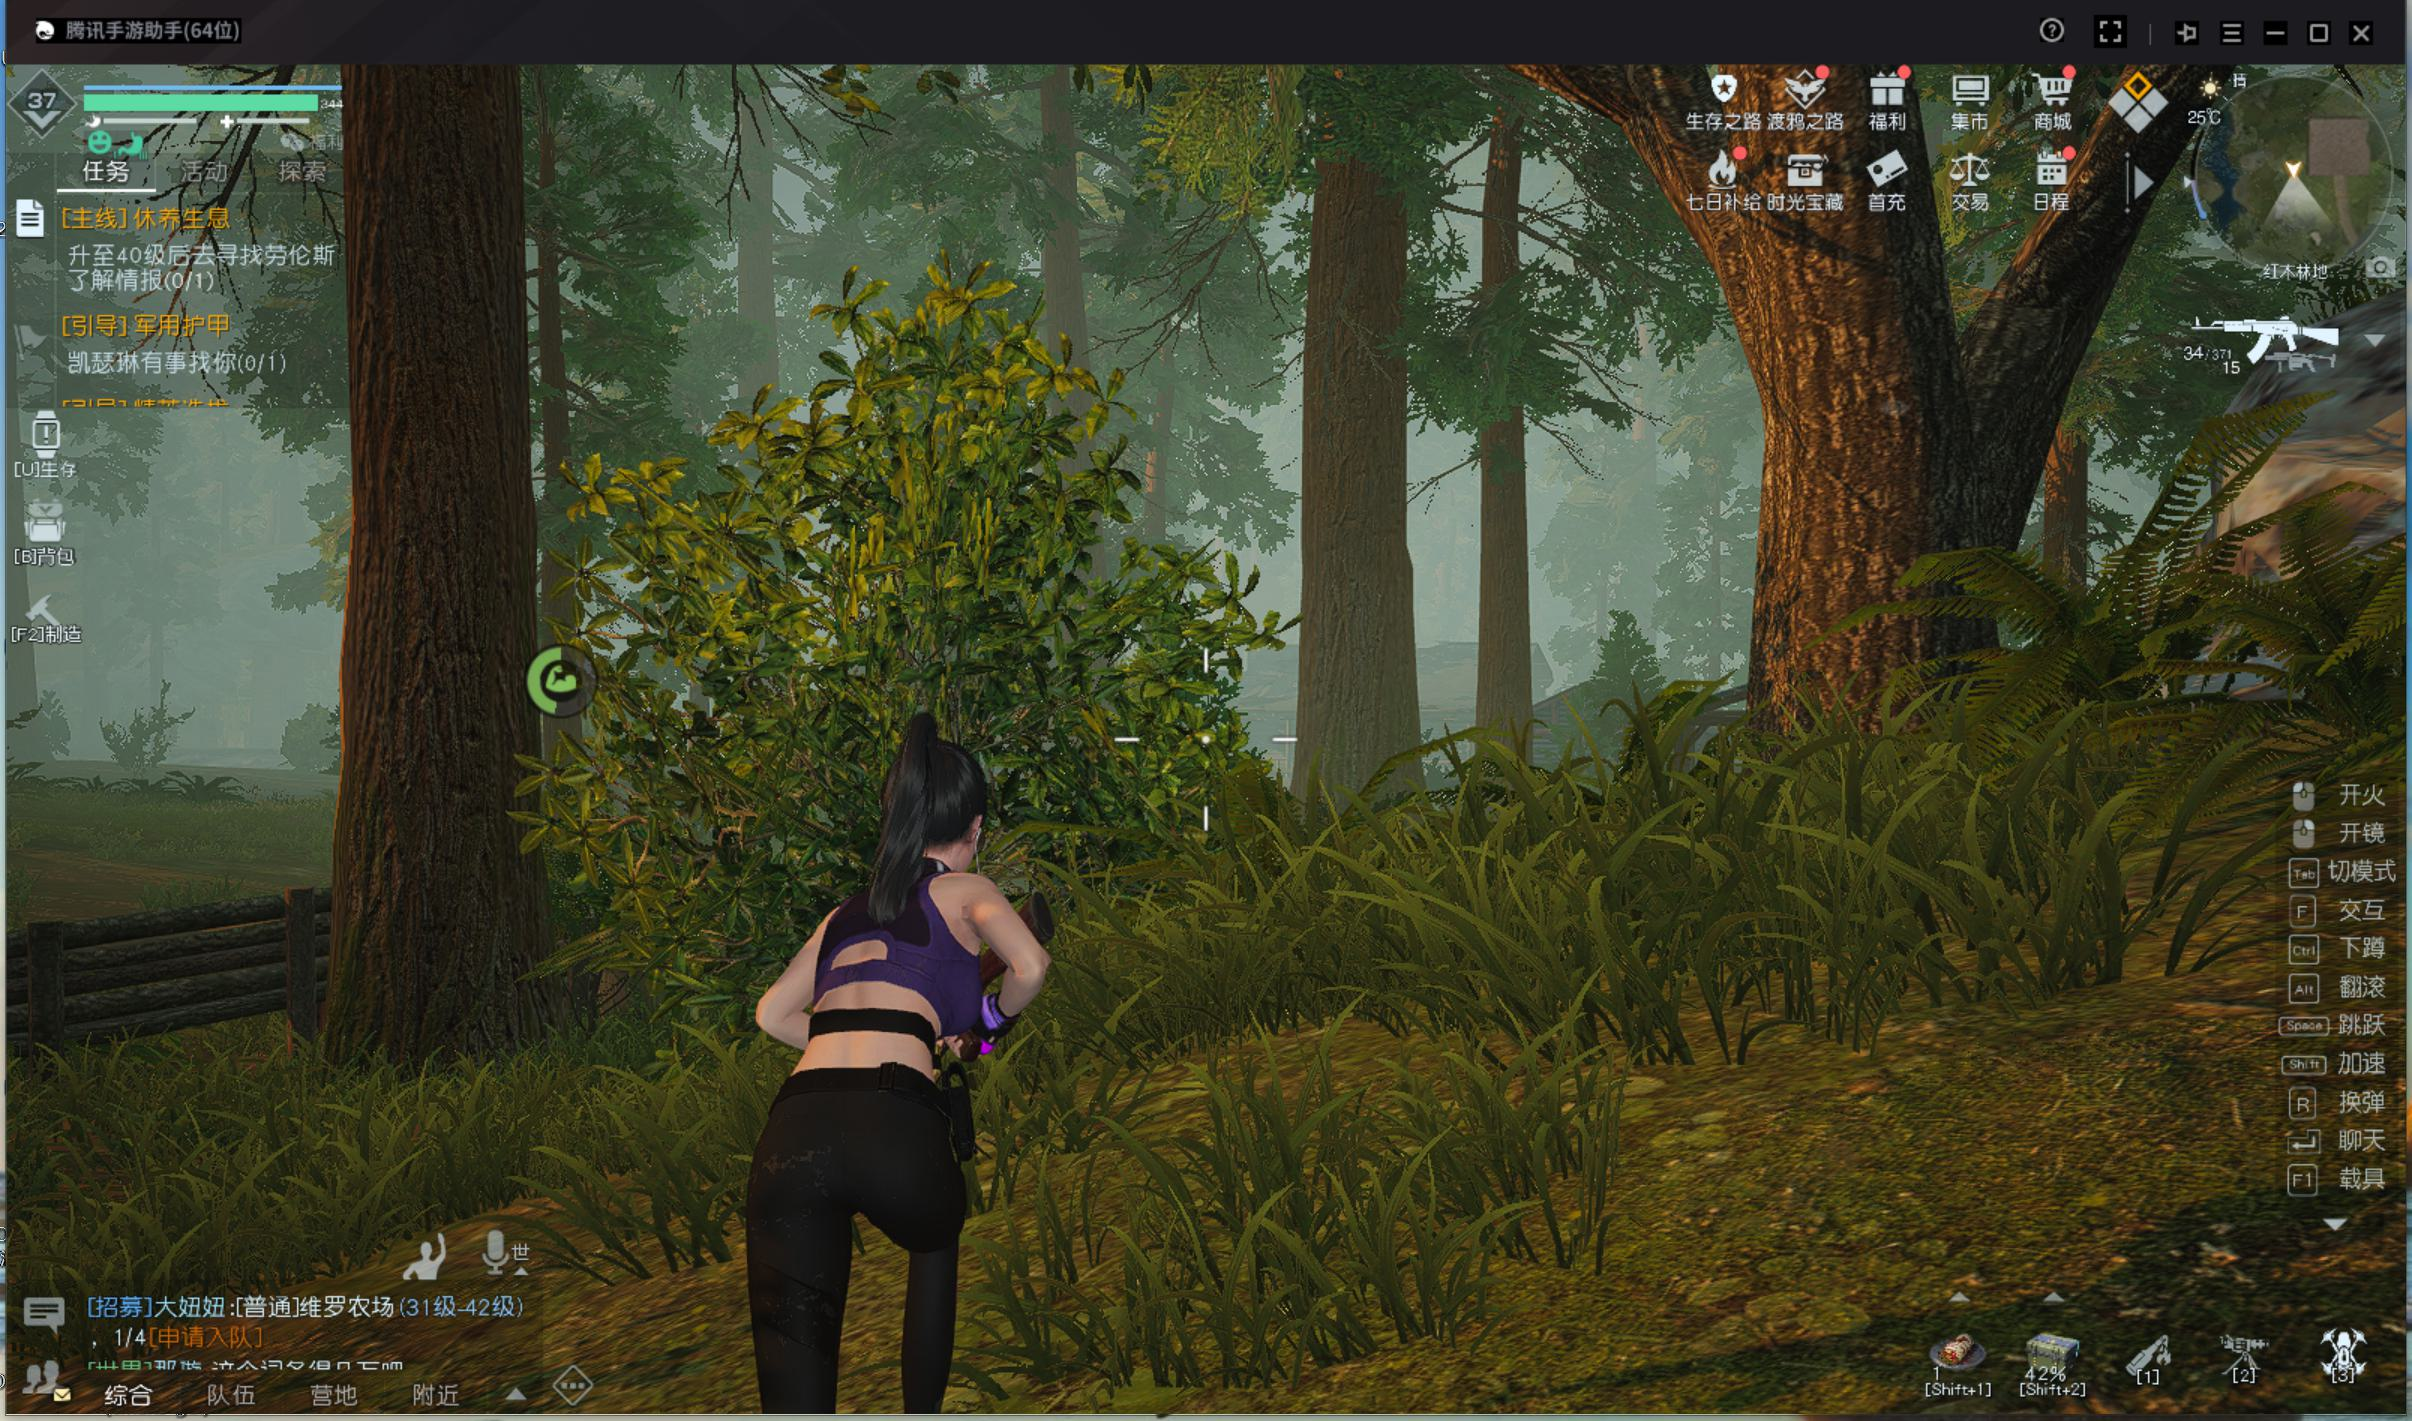tree: (321, 96, 560, 1079), (1285, 205, 1423, 859), (1461, 196, 1539, 863)
